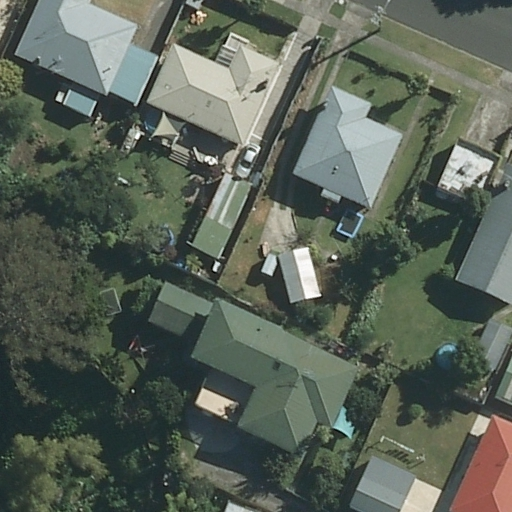DT: (370, 1, 386, 32)
